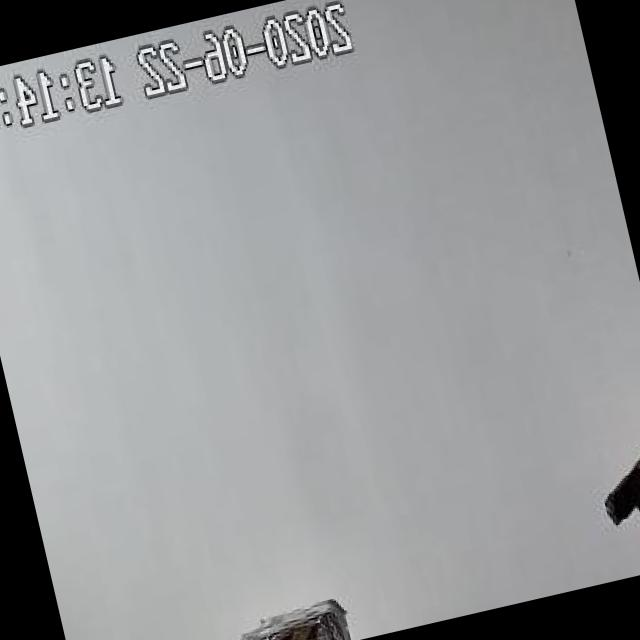Guns: (577, 419, 640, 550)
